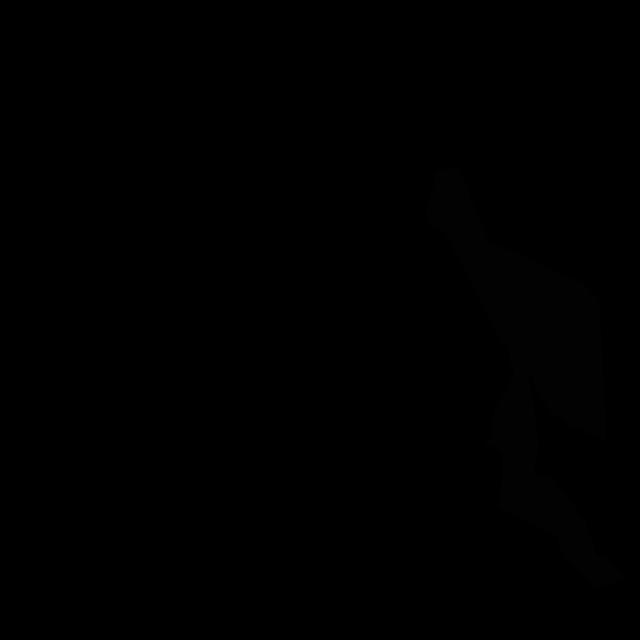cardboard: (426, 166, 607, 442), (485, 352, 626, 589)
